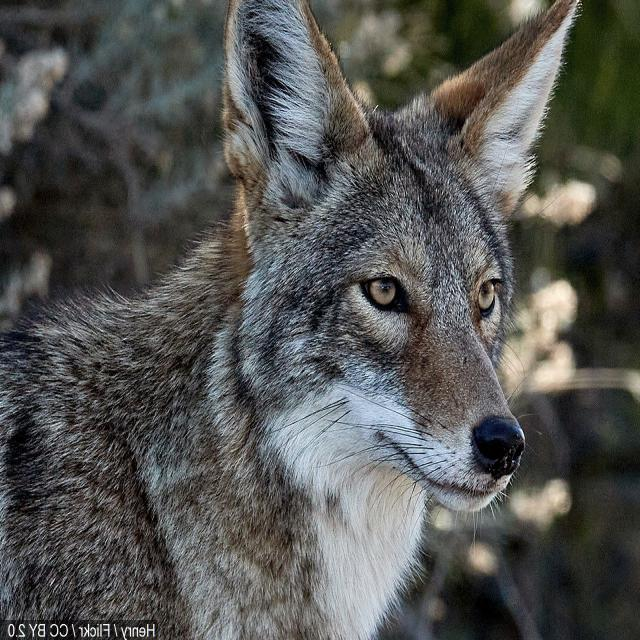coyote: (0, 0, 578, 639)
